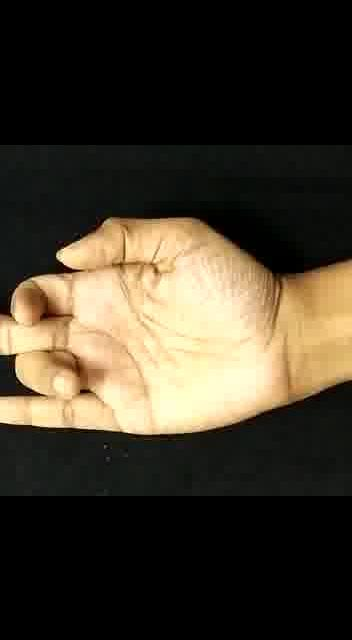shuktund: (0, 204, 316, 453)
